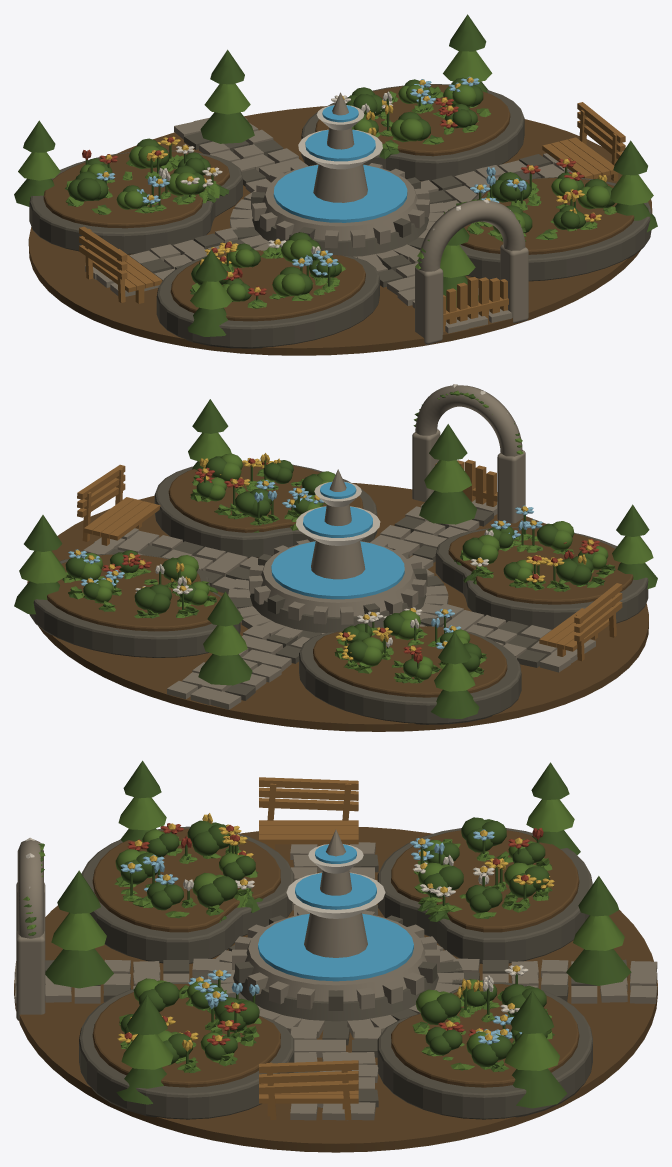
File: botanical-garden.glb
3 renders of one model, top to bottom at view 1: azimuth 30°, elevation 25°; view 2: azimuth 150°, elevation 25°; view 3: azimuth 270°, elevation 25°, orthographic. The views are drawn at different scales.
Visible parts, largest first — view 1: botanical-garden-farm-soil, botanical-garden-farm-stone-dark, botanical-garden-farm-stone, botanical-garden-farm-leaf-dark, botanical-garden-farm-leaf, botanical-garden-farm-wood-dark, botanical-garden-farm-water, botanical-garden-farm-trim, botanical-garden-farm-gold, botanical-garden-farm-accent-blue, botanical-garden-farm-barn-red; view 2: botanical-garden-farm-soil, botanical-garden-farm-stone, botanical-garden-farm-stone-dark, botanical-garden-farm-leaf-dark, botanical-garden-farm-leaf, botanical-garden-farm-wood-dark, botanical-garden-farm-water, botanical-garden-farm-gold, botanical-garden-farm-trim, botanical-garden-farm-accent-blue, botanical-garden-farm-barn-red; view 3: botanical-garden-farm-soil, botanical-garden-farm-stone-dark, botanical-garden-farm-leaf-dark, botanical-garden-farm-stone, botanical-garden-farm-leaf, botanical-garden-farm-wood-dark, botanical-garden-farm-water, botanical-garden-farm-trim, botanical-garden-farm-gold, botanical-garden-farm-accent-blue, botanical-garden-farm-barn-red.
Part boxes in pixels (x1,y1,x2,y2): botanical-garden-farm-soil: (28,84,652,355); botanical-garden-farm-stone-dark: (29,84,651,348); botanical-garden-farm-stone: (85,92,572,344); botanical-garden-farm-leaf-dark: (14,14,657,336); botanical-garden-farm-leaf: (18,51,653,309); botanical-garden-farm-wood-dark: (79,102,625,331); botanical-garden-farm-water: (273,105,407,222); botanical-garden-farm-trim: (158,91,510,253); botanical-garden-farm-gold: (102,77,607,292); botanical-garden-farm-accent-blue: (96,76,526,275); botanical-garden-farm-barn-red: (82,97,595,296); botanical-garden-farm-soil: (27,463,648,731); botanical-garden-farm-stone: (83,385,595,709); botanical-garden-farm-stone-dark: (29,464,648,724); botanical-garden-farm-leaf-dark: (14,392,657,718); botanical-garden-farm-leaf: (19,390,653,691); botanical-garden-farm-wood-dark: (77,459,622,661); botanical-garden-farm-water: (271,482,404,599); botanical-garden-farm-gold: (74,453,594,660); botanical-garden-farm-trim: (135,384,507,647); botanical-garden-farm-accent-blue: (68,480,542,648); botanical-garden-farm-barn-red: (102,458,599,663); botanical-garden-farm-soil: (14,827,657,1152); botanical-garden-farm-stone-dark: (45,826,627,1119); botanical-garden-farm-leaf-dark: (24,760,631,1108); botanical-garden-farm-stone: (14,829,657,1120); botanical-garden-farm-leaf: (23,797,624,1072); botanical-garden-farm-wood-dark: (259,777,358,1120); botanical-garden-farm-water: (258,844,413,981); botanical-garden-farm-trim: (25,837,528,1013); botanical-garden-farm-gold: (117,813,554,1051); botanical-garden-farm-accent-blue: (120,829,521,1044); botanical-garden-farm-barn-red: (124,823,546,1045).
Size of the model in its own units: 12.43 by 3.01 by 10.66.
